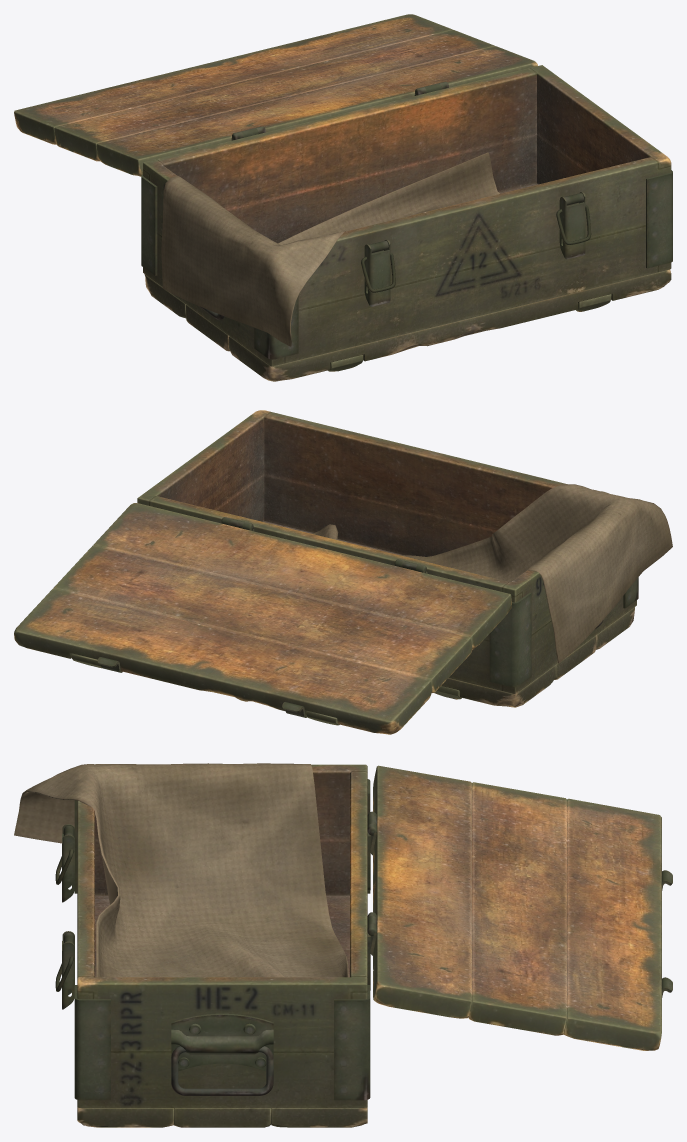
The model's file is CajaMilitar_b.glb.
3 renders of one model, top to bottom at view 1: azimuth 30°, elevation 25°; view 2: azimuth 150°, elevation 25°; view 3: azimuth 270°, elevation 25°, orthographic. The views are drawn at different scales.
Parts seen in each view (by area): view 1: old_military_crate_b.001, old_military_crate_lid_b.001, old_military_crate_cloth_b.001, old_military_crate_latch_b.001, old_military_crate_loop_b.001; view 2: old_military_crate_lid_b.001, old_military_crate_b.001, old_military_crate_cloth_b.001; view 3: old_military_crate_lid_b.001, old_military_crate_b.001, old_military_crate_cloth_b.001, old_military_crate_latch_b.001.
Part boxes in pixels (x1,y1,x2,y2): old_military_crate_b.001: (141,65,672,381); old_military_crate_lid_b.001: (14,14,537,176); old_military_crate_cloth_b.001: (161,152,499,346); old_military_crate_latch_b.001: (364,192,585,306); old_military_crate_loop_b.001: (361,204,591,292); old_military_crate_lid_b.001: (14,503,511,734); old_military_crate_b.001: (137,410,638,707); old_military_crate_cloth_b.001: (310,484,672,663); old_military_crate_lid_b.001: (367,765,672,1050); old_military_crate_b.001: (74,764,376,1127); old_military_crate_cloth_b.001: (14,763,348,977); old_military_crate_latch_b.001: (62,824,74,1009).
Size of the model in its own units: 0.8154 by 0.2582 by 0.9757.
1 material, 1 textured.
